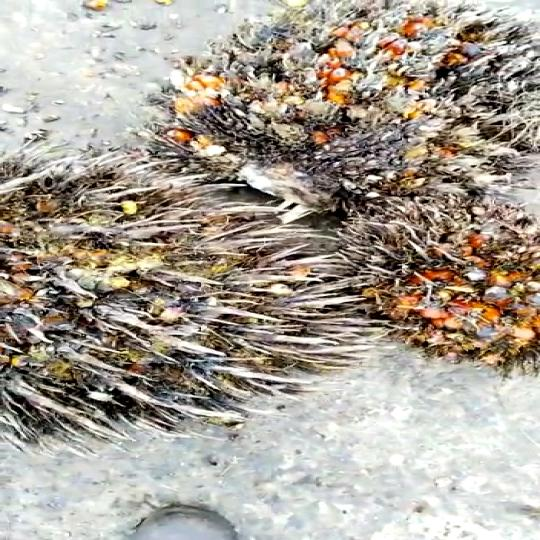terlalu masak: (0, 166, 390, 440), (137, 2, 540, 206), (334, 201, 540, 362)
